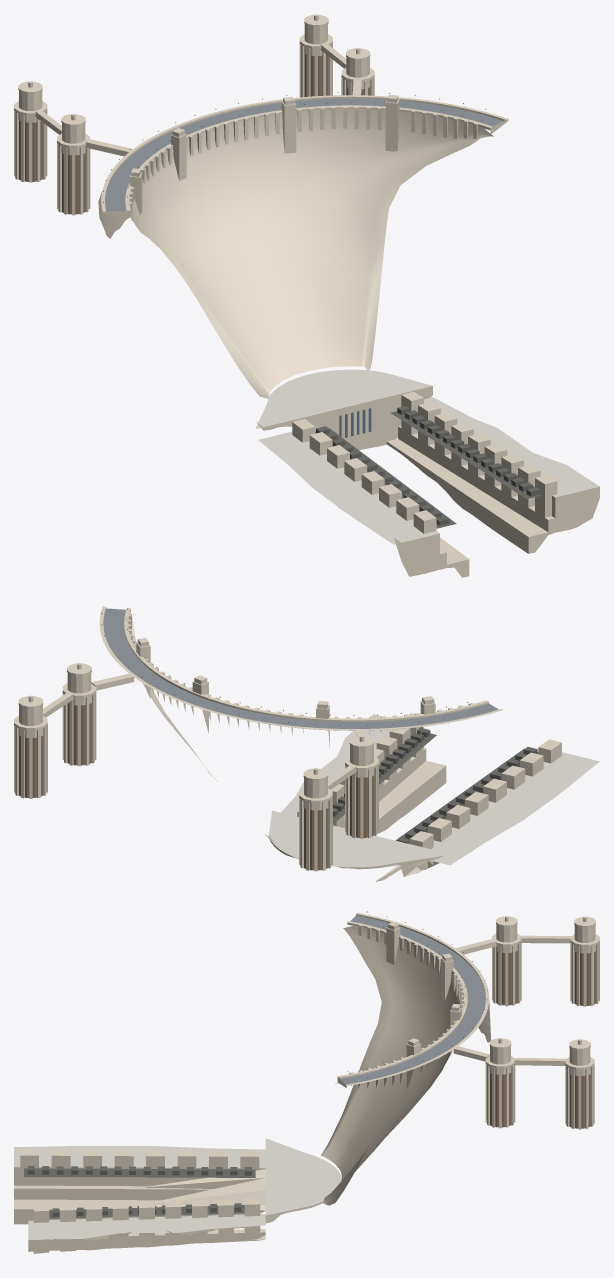
The model's file is hoover-dam.glb.
3 renders of one model, top to bottom at view 1: azimuth 30°, elevation 25°; view 2: azimuth 150°, elevation 25°; view 3: azimuth 270°, elevation 25°, orthographic. The views are drawn at different scales.
Visible parts, largest first — view 1: Hoover Dam; view 2: Hoover Dam; view 3: Hoover Dam.
Part boxes in pixels (x1=…): Hoover Dam: x1=14, y1=14, x2=599, y2=577; Hoover Dam: x1=14, y1=606, x2=599, y2=881; Hoover Dam: x1=14, y1=911, x2=599, y2=1253.
Bounding box in the file's own units: 289 × 196 × 408.
